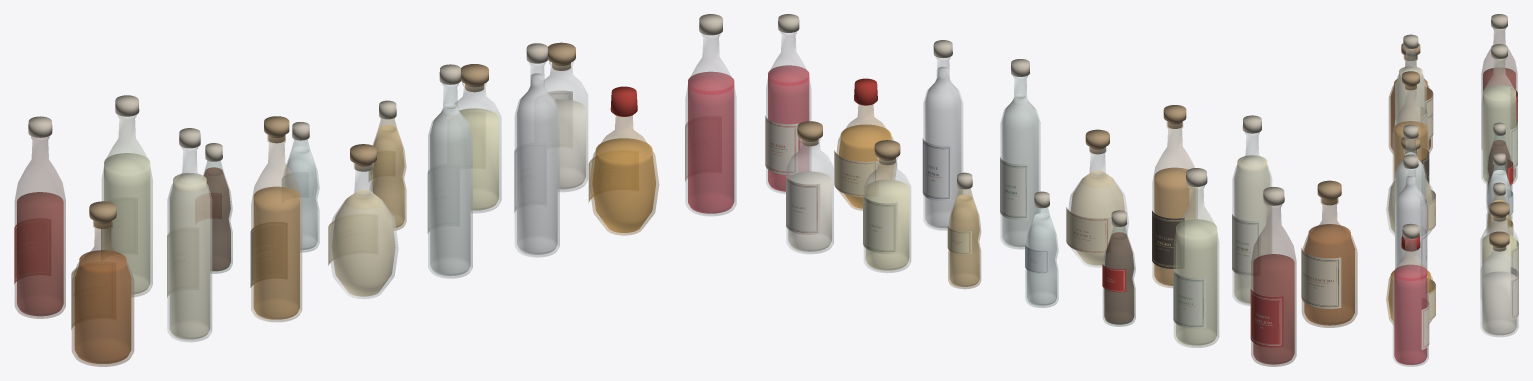
File: garrafas.glb
The picture shows the model from 3 angles, left to right: view 1: azimuth 30°, elevation 25°; view 2: azimuth 150°, elevation 25°; view 3: azimuth 270°, elevation 25°; orthographic projection. The views are drawn at different scales.
Visible parts, largest first — view 1: garrafa_whisky, garrafa_campari, garrafa_sweet_vermouth, garrafa_gin, garrafa_vodka, garrafa_cachaca, garrafa_rum, garrafa_tequila, garrafa_orange_liqueur, garrafa_dry_vermouth, garrafa_lemon_juice, garrafa_sugar_syrup (+3 smaller); view 2: garrafa_sweet_vermouth, garrafa_dry_vermouth, garrafa_rum, garrafa_gin, garrafa_vodka, garrafa_campari, garrafa_sugar_syrup, garrafa_lemon_juice, garrafa_cachaca, garrafa_whisky, garrafa_tequila, garrafa_orange_liqueur (+3 smaller); view 3: garrafa_campari, garrafa_sugar_syrup, garrafa_dry_vermouth, garrafa_vodka, garrafa_whisky, garrafa_lemon_juice, garrafa_cachaca, garrafa_sweet_vermouth, garrafa_gin, garrafa_rum, garrafa_orange_liqueur, garrafa_tequila (+3 smaller).
Part boxes in pixels (box(x1,y1,x2,y2)): garrafa_whisky: box(250, 116, 301, 321); garrafa_campari: box(685, 14, 736, 216); garrafa_sweet_vermouth: box(14, 116, 65, 318); garrafa_gin: box(427, 64, 472, 278); garrafa_vodka: box(514, 43, 559, 257); garrafa_cachaca: box(167, 128, 211, 341); garrafa_rum: box(71, 201, 133, 366); garrafa_tequila: box(328, 144, 398, 298); garrafa_orange_liqueur: box(588, 86, 658, 235); garrafa_dry_vermouth: box(101, 95, 152, 297); garrafa_lemon_juice: box(455, 64, 501, 213); garrafa_sugar_syrup: box(544, 42, 587, 191); garrafa_sweet_vermouth: box(1250, 187, 1296, 366); garrafa_dry_vermouth: box(1173, 168, 1218, 347); garrafa_rum: box(1301, 180, 1357, 327); garrafa_gin: box(1000, 59, 1040, 249); garrafa_vodka: box(922, 40, 962, 230); garrafa_campari: box(765, 14, 811, 193); garrafa_sugar_syrup: box(786, 121, 833, 253); garrafa_lemon_juice: box(863, 140, 910, 272); garrafa_cachaca: box(1232, 115, 1271, 305); garrafa_whisky: box(1152, 105, 1197, 287); garrafa_tequila: box(1066, 129, 1128, 267); garrafa_orange_liqueur: box(834, 78, 896, 210); garrafa_campari: box(1393, 223, 1429, 366); garrafa_sugar_syrup: box(1480, 231, 1518, 336); garrafa_dry_vermouth: box(1481, 44, 1517, 184); garrafa_vodka: box(1395, 154, 1427, 269); garrafa_whisky: box(1393, 71, 1429, 196); garrafa_lemon_juice: box(1480, 201, 1518, 299); garrafa_cachaca: box(1395, 34, 1427, 126); garrafa_sweet_vermouth: box(1481, 14, 1517, 149); garrafa_gin: box(1395, 124, 1427, 267); garrafa_rum: box(1389, 43, 1433, 153); garrafa_orange_liqueur: box(1386, 233, 1435, 324); garrafa_tequila: box(1386, 137, 1435, 236).
Size of the model in its own units: 1.21 by 0.354 by 0.2998.
Materials: 48 (15 with a texture image).
